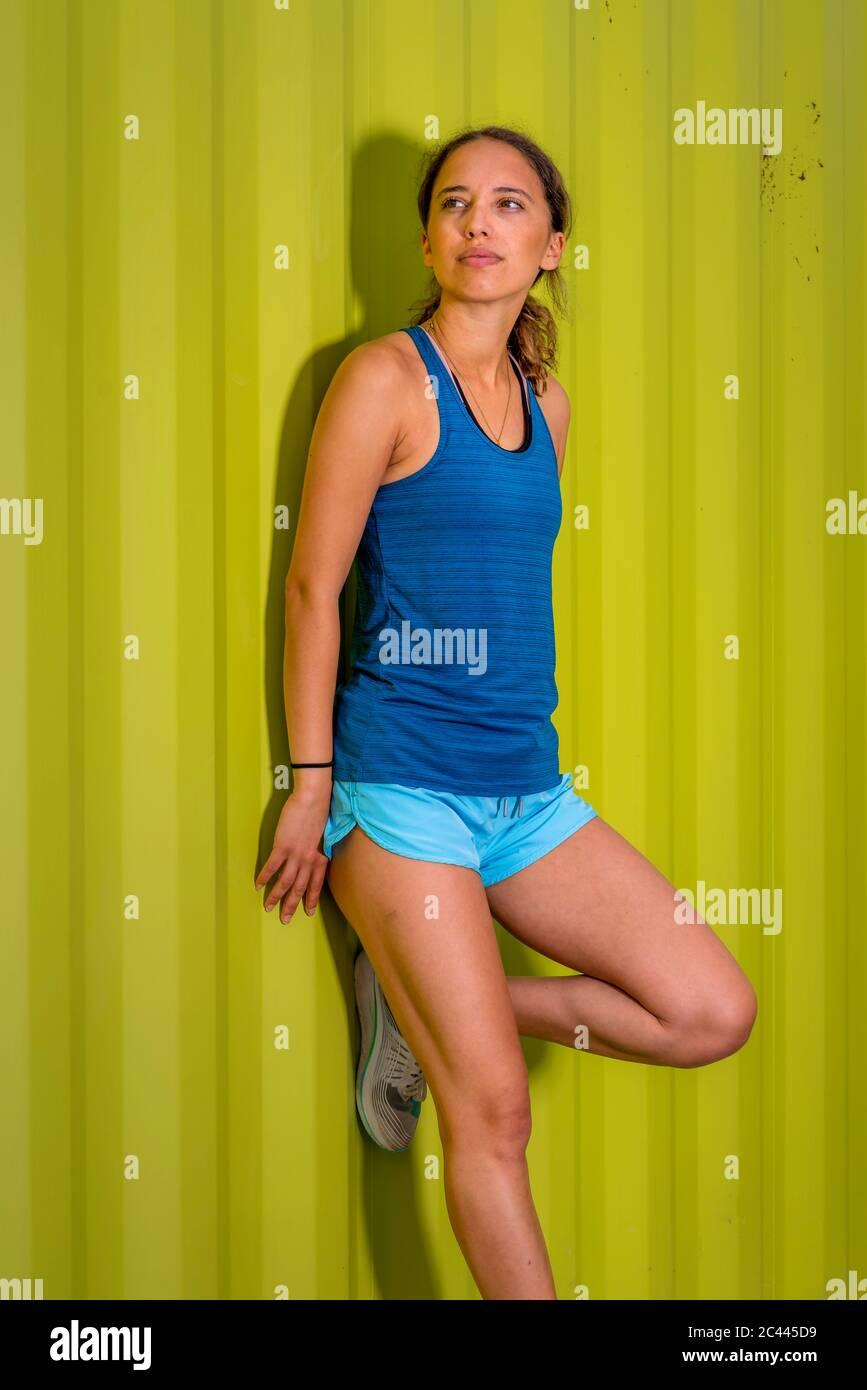Shorts: (320, 769, 610, 894)
vest: (332, 320, 570, 791)
